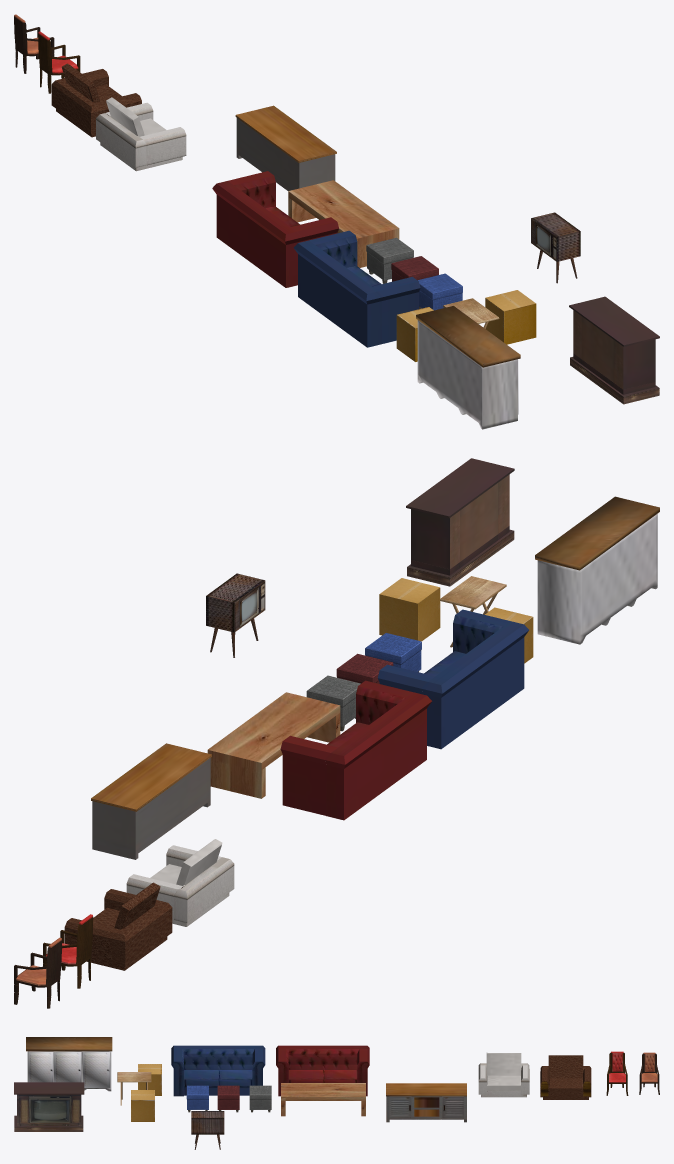
Rendered from LivingRoomAll.fbx.
3 renders of one model, top to bottom at view 1: azimuth 30°, elevation 25°; view 2: azimuth 150°, elevation 25°; view 3: azimuth 270°, elevation 25°, orthographic. The views are drawn at different scales.
Parts seen in each view (by area): view 1: Cabinet, Red_Couch, Couch_Red, TV_Unit, TVStandCabinet, Armchair_White, Coffee_Table, Armchair_Leather, Standing_Television, Cardboard_Box_Interactable, Grey_Ottoman, Blue_Ottoman (+5 smaller); view 2: Cabinet, Couch_Red, Red_Couch, TV_Unit, TVStandCabinet, Coffee_Table, Armchair_Leather, Armchair_White, Standing_Television, Cardboard_Box_Interactable, WoodenChair_BlackWalnut, Blue_Ottoman (+5 smaller); view 3: Red_Couch, Couch_Red, TV_Unit, Armchair_White, Armchair_Leather, TVStandCabinet, Coffee_Table, Cabinet, Door, Standing_Television, Door2, Door3 (+10 smaller).
Part boxes in pixels (x1,y1,x2,y2): Cabinet: (416,306,520,429); Red_Couch: (293,230,420,347); Couch_Red: (212,171,338,287); TV_Unit: (569,296,659,404); TVStandCabinet: (235,105,336,190); Armchair_White: (96,97,186,171); Coffee_Table: (288,180,399,267); Armchair_Leather: (51,63,141,137); Standing_Television: (531,212,580,283); Cardboard_Box_Interactable: (485,298,536,344); Grey_Ottoman: (366,237,413,283); Blue_Ottoman: (418,273,462,310); Cabinet: (535,496,659,644); Couch_Red: (280,680,431,820); Red_Couch: (377,609,528,749); TV_Unit: (406,458,514,586); TVStandCabinet: (91,743,211,859); Coffee_Table: (207,692,340,798); Armchair_Leather: (64,882,172,970); Armchair_White: (126,839,234,926); Standing_Television: (206,573,265,657); Cardboard_Box_Interactable: (379,588,440,641); WoodenChair_BlackWalnut: (14,937,61,1008); Blue_Ottoman: (365,633,421,672); Red_Couch: (171,1045,265,1096); Couch_Red: (276,1045,369,1096); TV_Unit: (14,1082,84,1131); Armchair_White: (478,1053,529,1097); Armchair_Leather: (540,1055,591,1099); TVStandCabinet: (386,1083,466,1122); Coffee_Table: (281,1083,365,1116); Cabinet: (26,1037,112,1091); Door: (82,1052,110,1087); Standing_Television: (191,1111,224,1149); Door2: (54,1052,81,1082); Door3: (28,1052,53,1082).
Size of the model in its own units: 711 by 208 by 2692.
39 materials, 39 textured.
